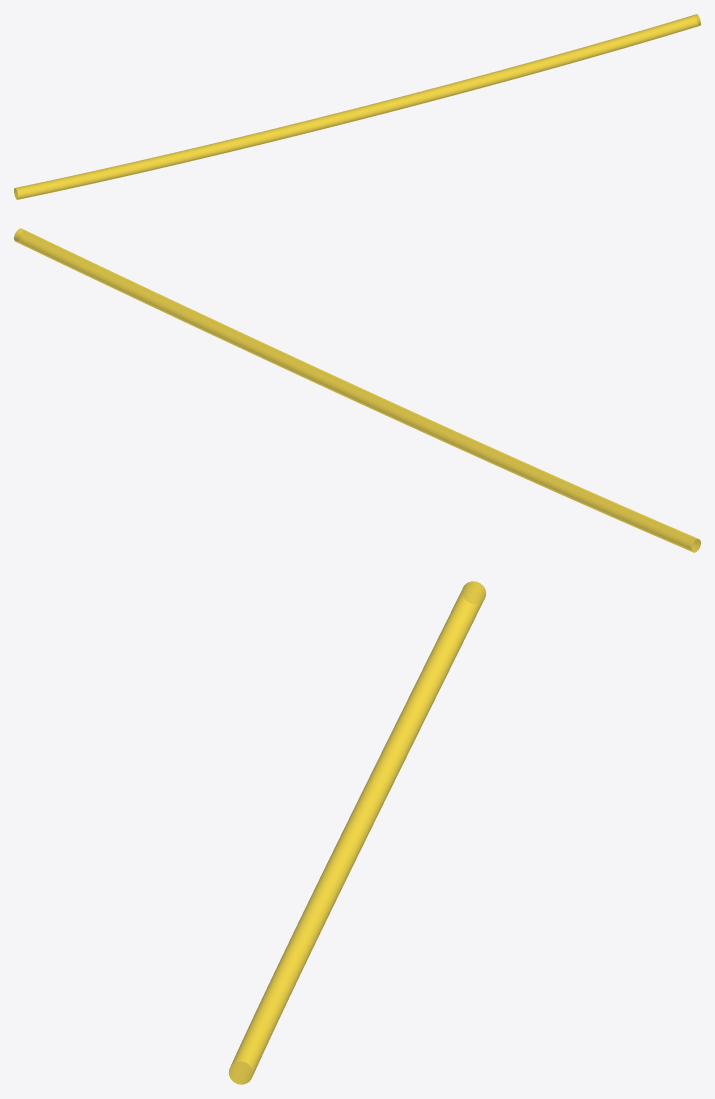
The model's file is Event_27938768_track_85.fbx.
3 renders of one model, top to bottom at view 1: azimuth 30°, elevation 25°; view 2: azimuth 150°, elevation 25°; view 3: azimuth 270°, elevation 25°, orthographic. The views are drawn at different scales.
Visible parts, largest first — view 1: Model; view 2: Model; view 3: Model.
Boxes of the visible parts, left/top/right/bottom form: Model: left=14, top=14, right=700, bottom=199; Model: left=14, top=228, right=700, bottom=552; Model: left=228, top=581, right=486, bottom=1084.
Size of the model in its own units: 2.36 by 0.272 by 0.4204.
